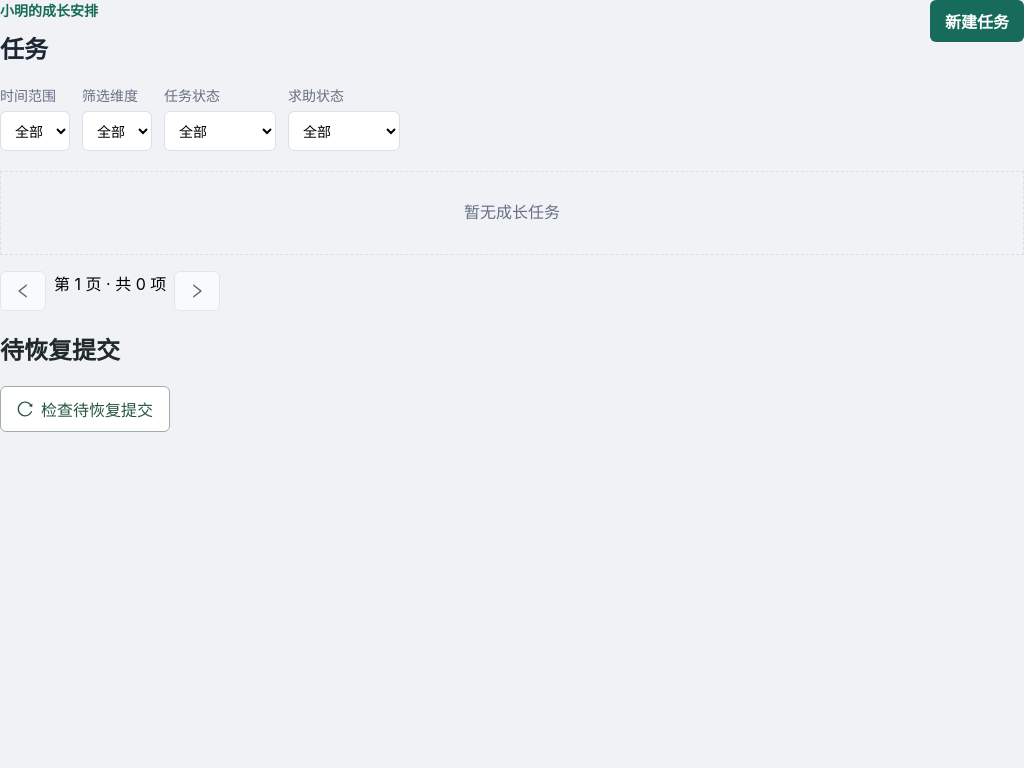
Test case: Task 9 today and task workflows › creates a moral task for the selected child
Expected: the text "暂无成长任务" is shown, [0,171,1023,255]
Click the button "新建任务" at point(977, 21), box [930,0,1023,42]
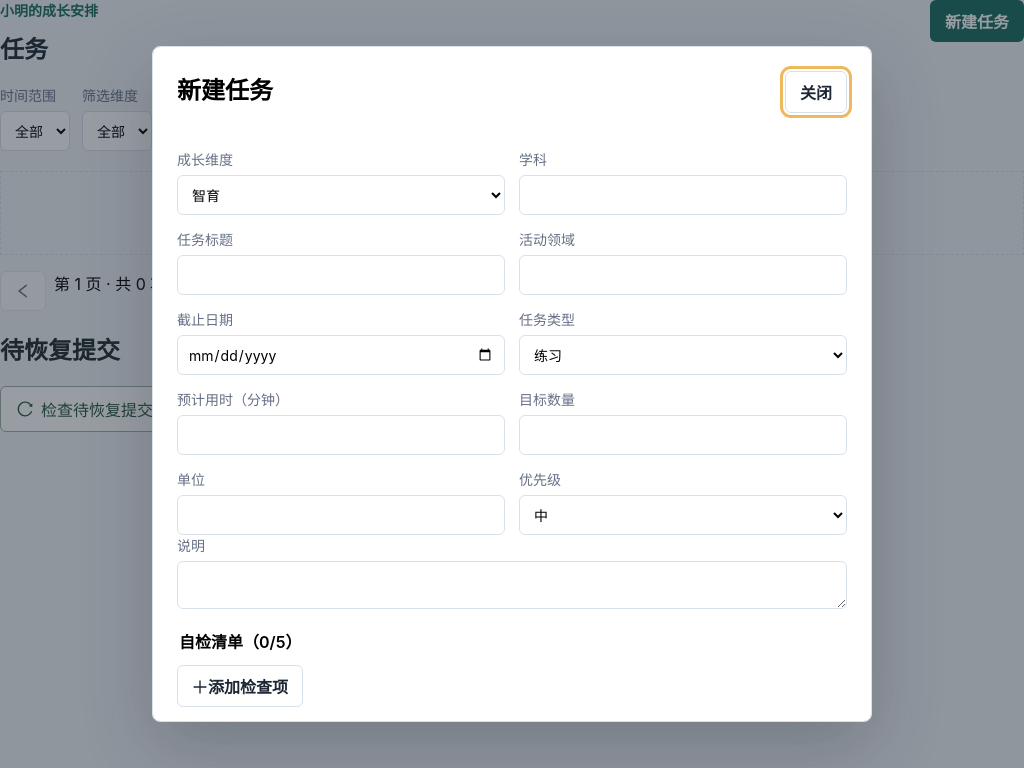
Select "德育" in the dropdown labelled "成长维度" at point(341, 195), box [177,175,505,215]
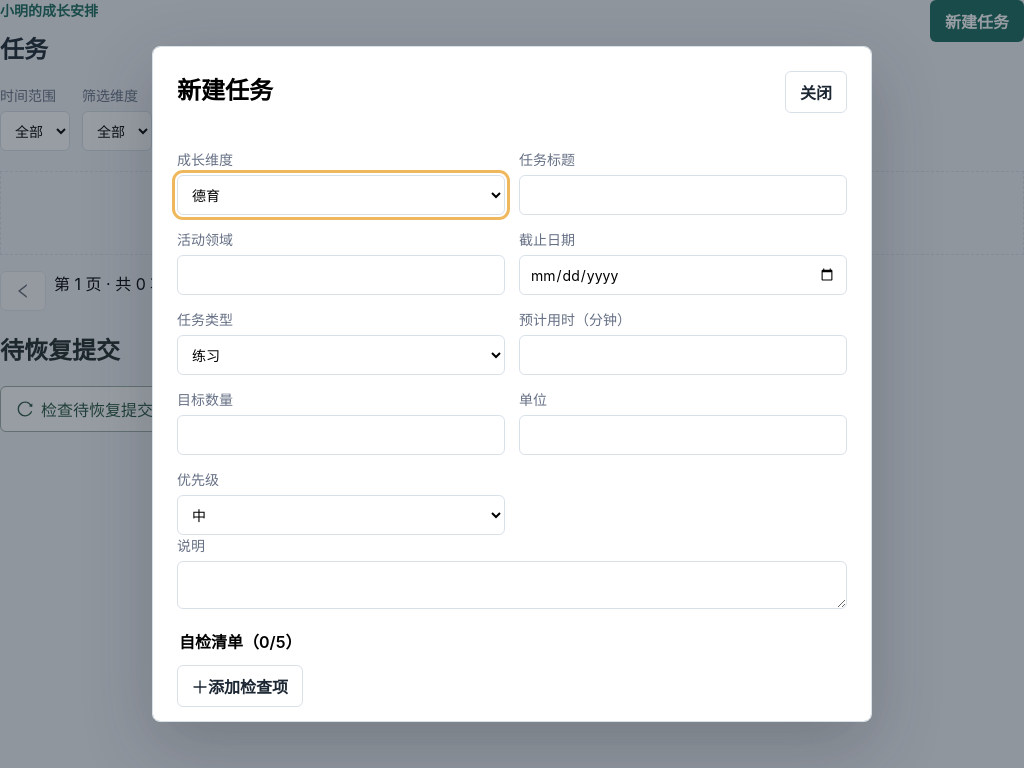
Type "按时整理书包" into the field labelled "任务标题" at point(683, 195), box [519,175,847,215]
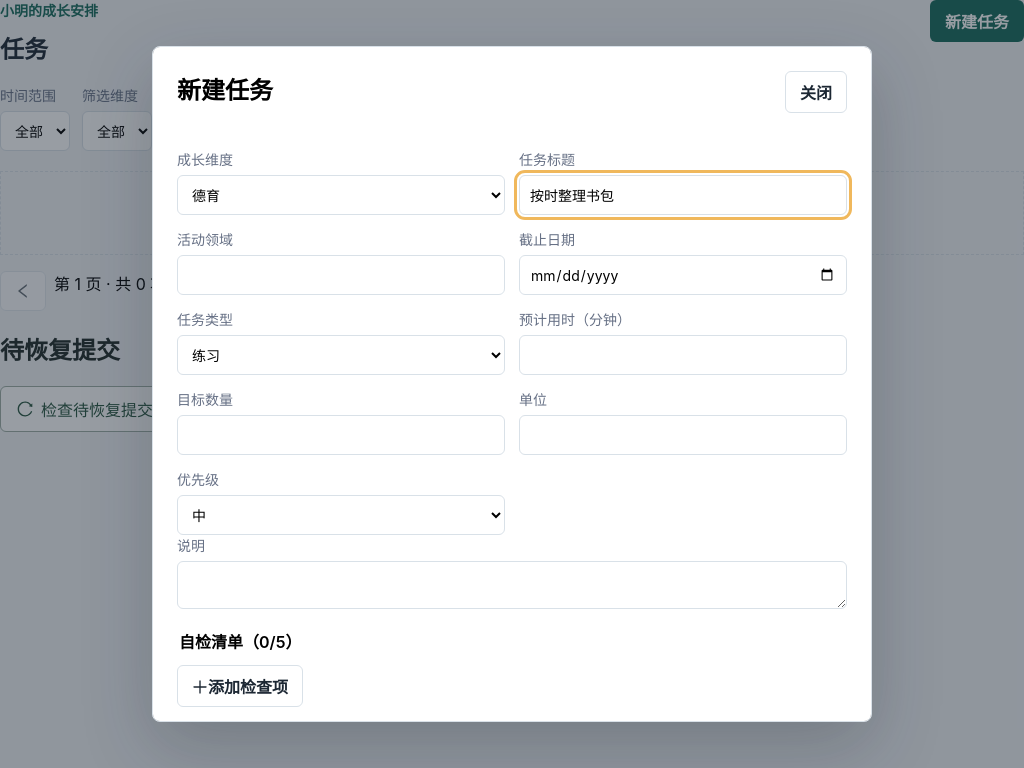
Type "日常成长" into the field labelled "活动领域" at point(341, 275), box [177,255,505,295]
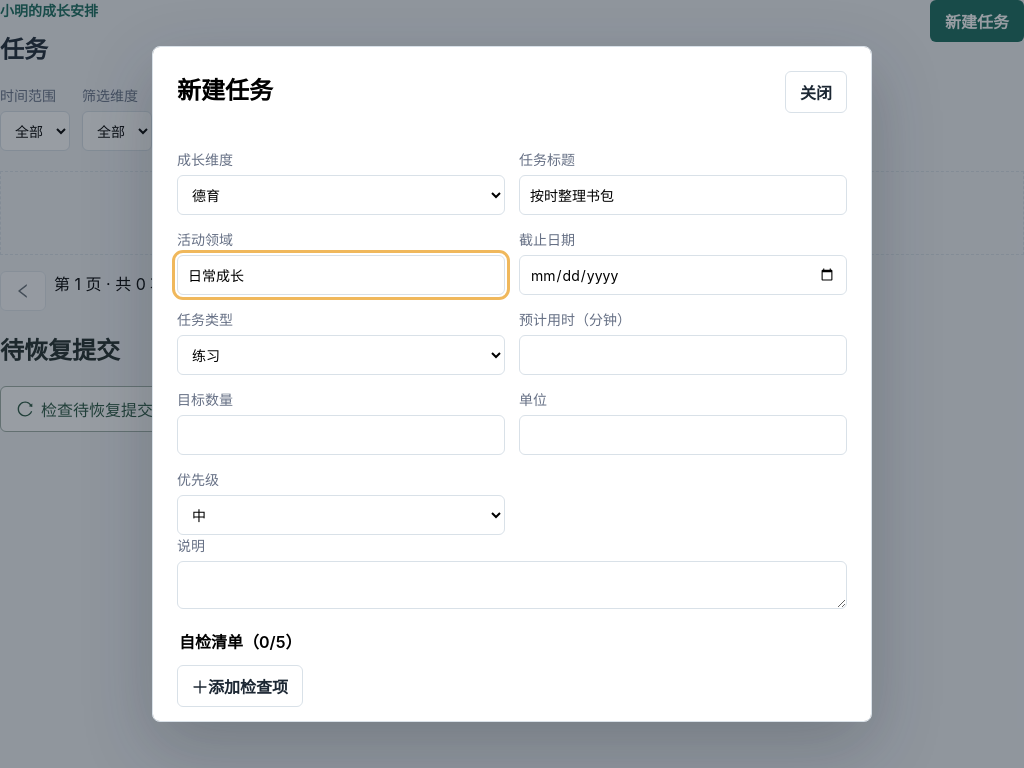
Type "2026-07-11" into the date field labelled "截止日期" at point(683, 275), box [519,255,847,295]
(page scrolled)
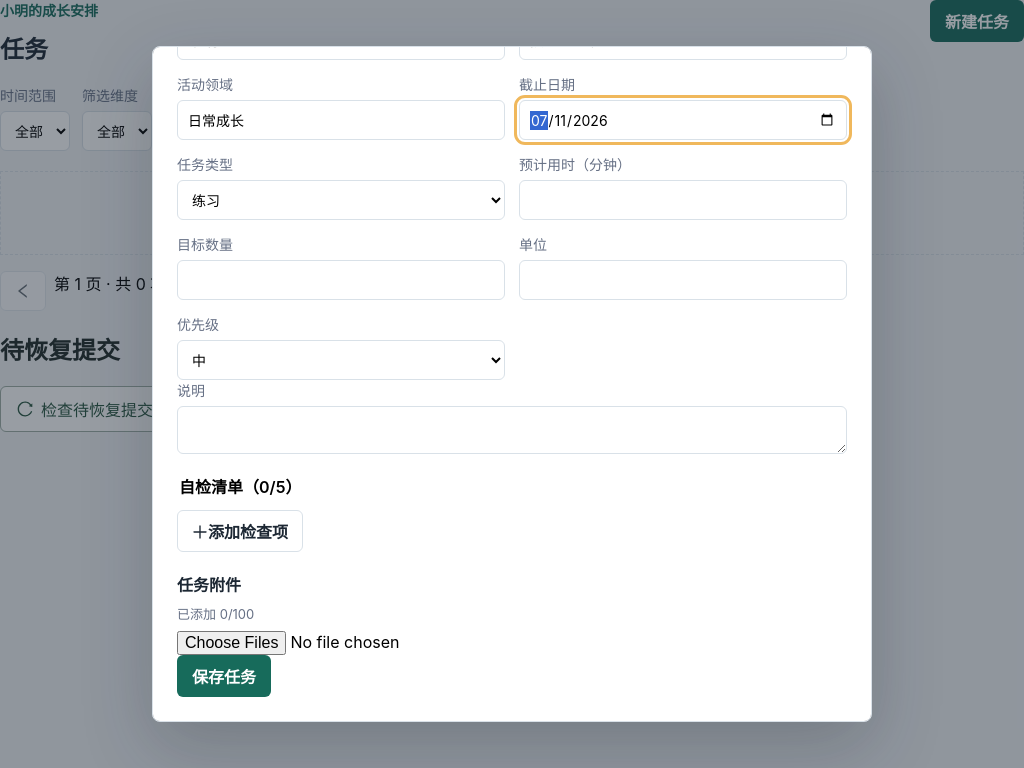
Click the button "保存任务" at point(224, 676), box [177,655,271,697]
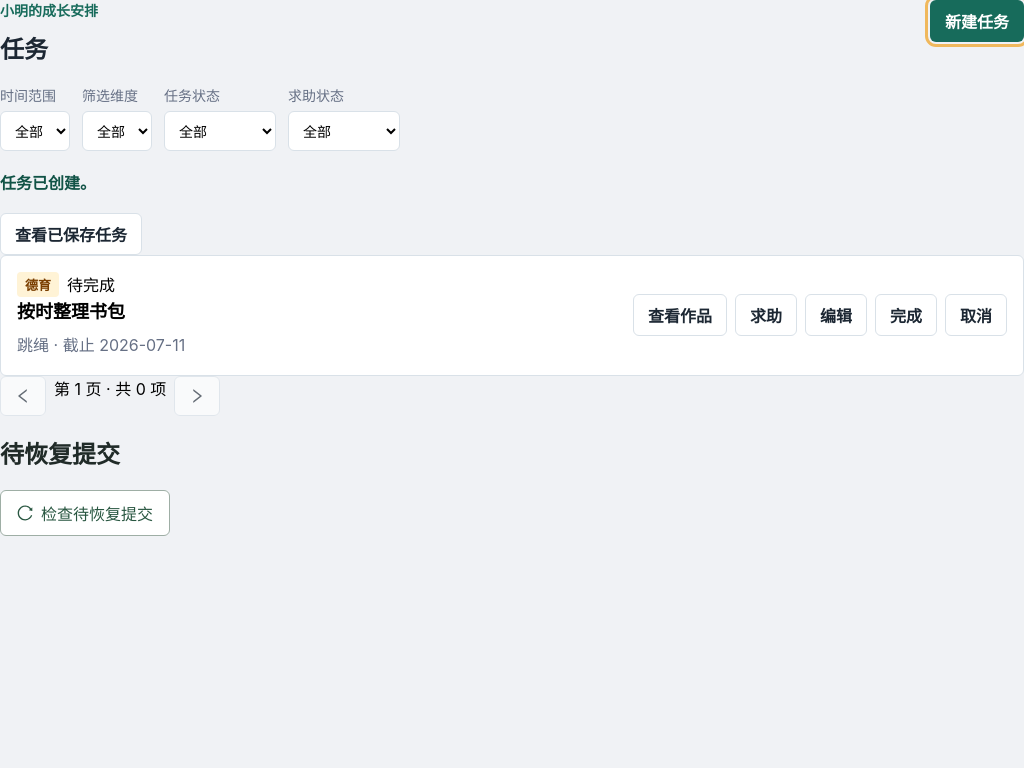
Expected: the heading "按时整理书包" is shown, [17,301,125,322]
